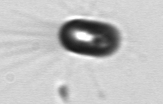plankton: (51, 13, 127, 64)
